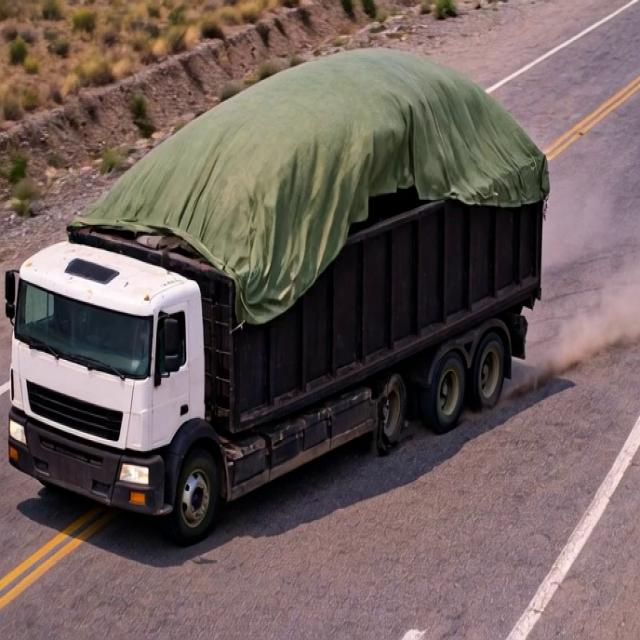trailer: (77, 48, 562, 285)
truck: (6, 22, 562, 528)
